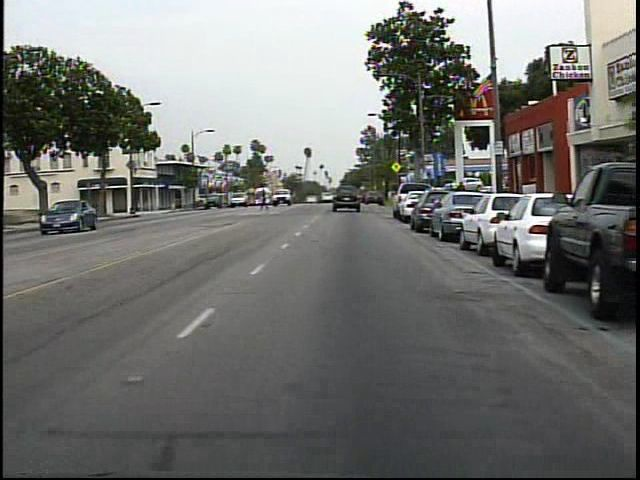person: (452, 177, 472, 219), (258, 185, 272, 214)
